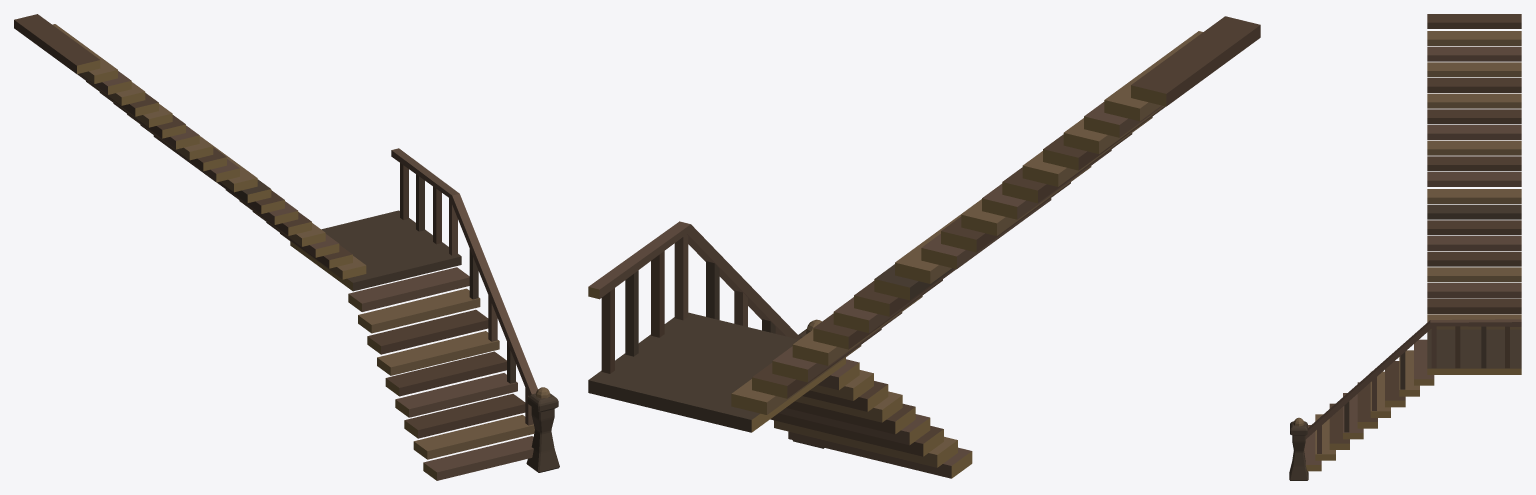
The model's file is Stair_3A_6m.fbx.
3 renders of one model, left to right at view 1: azimuth 30°, elevation 25°; view 2: azimuth 150°, elevation 25°; view 3: azimuth 270°, elevation 25°, orthographic. The views are drawn at different scales.
Parts seen in each view (by area): view 1: pCube2446; view 2: pCube2446; view 3: pCube2446.
Part boxes in pixels (x1,y1,x2,y2): pCube2446: [14, 14, 559, 480]; pCube2446: [588, 16, 1260, 478]; pCube2446: [1289, 14, 1521, 480].
Bounding box in the file's own units: 576 × 606 × 394.
